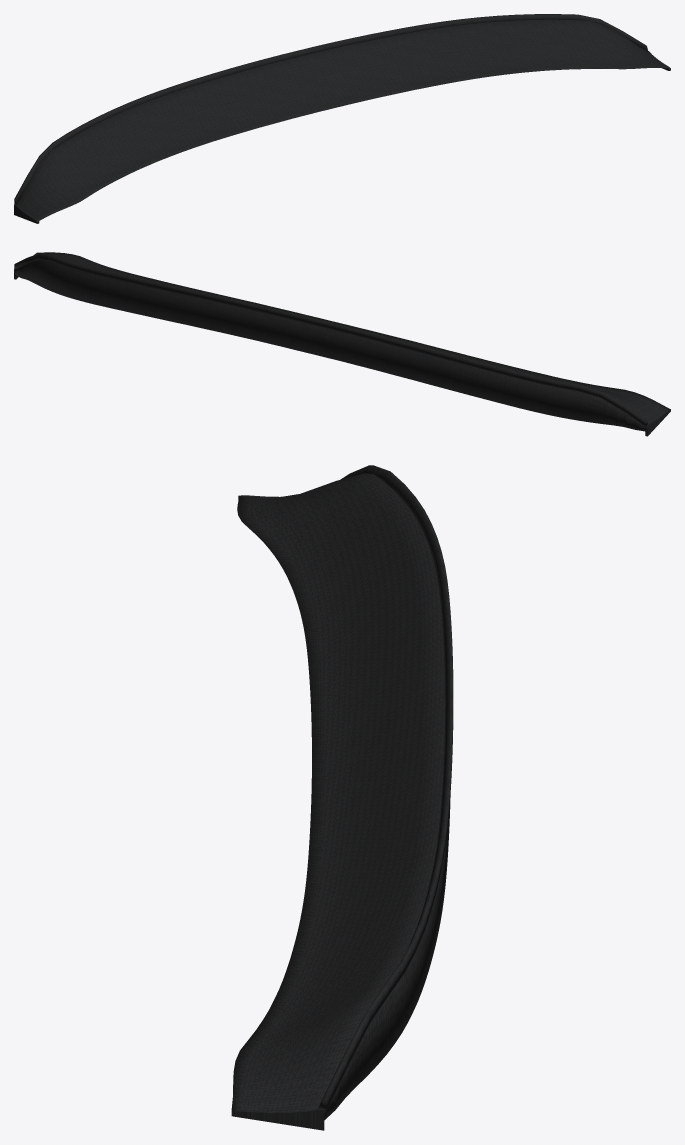
Rendered from WB14_widebody_ducktail_carbon.glb.
3 renders of one model, top to bottom at view 1: azimuth 30°, elevation 25°; view 2: azimuth 150°, elevation 25°; view 3: azimuth 270°, elevation 25°, orthographic. The views are drawn at different scales.
Visible parts, largest first — view 1: MOD_NC_WB14_spoiler, MOD_NC_WB14_gurney; view 2: MOD_NC_WB14_spoiler, MOD_NC_WB14_gurney; view 3: MOD_NC_WB14_spoiler, MOD_NC_WB14_gurney, MOD_NC_WB14_cap_L.
Part boxes in pixels (x1=…): MOD_NC_WB14_spoiler: x1=17, y1=19, x2=669, y2=221; MOD_NC_WB14_gurney: x1=14, y1=14, x2=648, y2=204; MOD_NC_WB14_spoiler: x1=15, y1=252, x2=669, y2=431; MOD_NC_WB14_gurney: x1=14, y1=253, x2=647, y2=426; MOD_NC_WB14_spoiler: x1=231, y1=473, x2=450, y2=1120; MOD_NC_WB14_gurney: x1=317, y1=465, x2=453, y2=1110; MOD_NC_WB14_cap_L: x1=231, y1=1108, x2=324, y2=1130.
Bounding box in the file's own units: 1.16 × 0.1141 × 0.1757.
Materials: 1 (1 with a texture image).
